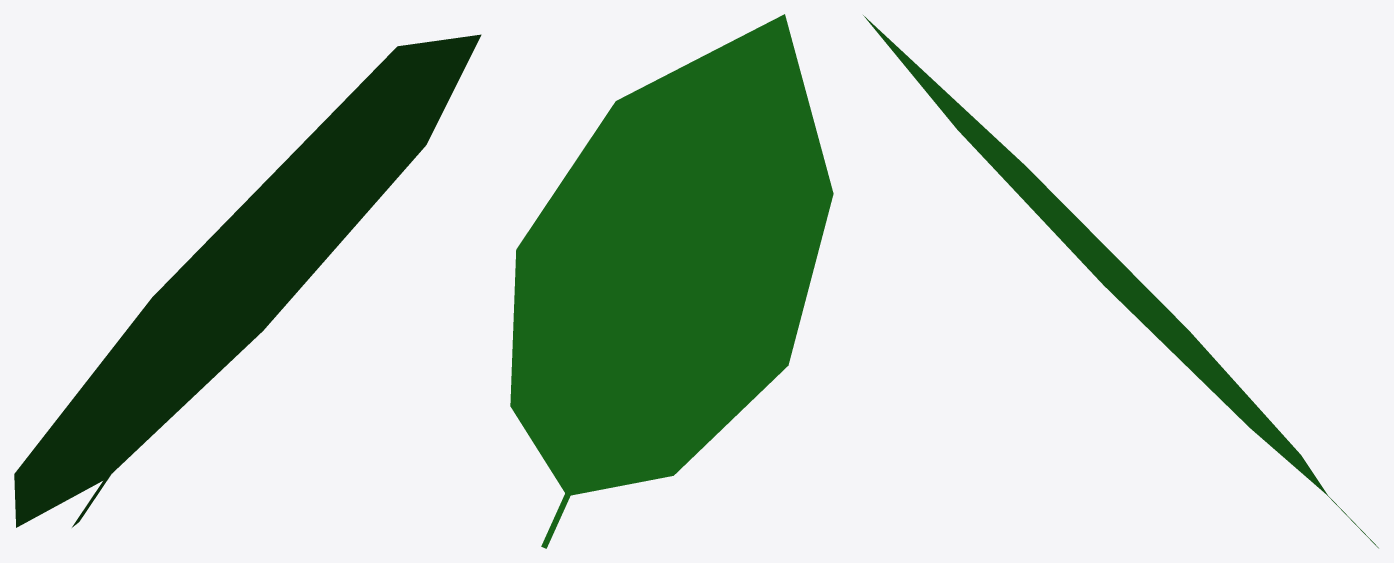
File: Leaves.065.obj
The picture shows the model from 3 angles, left to right: view 1: azimuth 30°, elevation 25°; view 2: azimuth 150°, elevation 25°; view 3: azimuth 270°, elevation 25°; orthographic projection. The views are drawn at different scales.
Visible parts, largest first — view 1: Leaves.065_leaves.065; view 2: Leaves.065_leaves.065; view 3: Leaves.065_leaves.065.
Boxes of the visible parts, x1,y1,x2,y2 form: Leaves.065_leaves.065: [14, 34, 481, 527]; Leaves.065_leaves.065: [510, 14, 833, 548]; Leaves.065_leaves.065: [863, 15, 1378, 548].
Bounding box in the file's own units: 0.0695 × 0.1103 × 0.1014.
